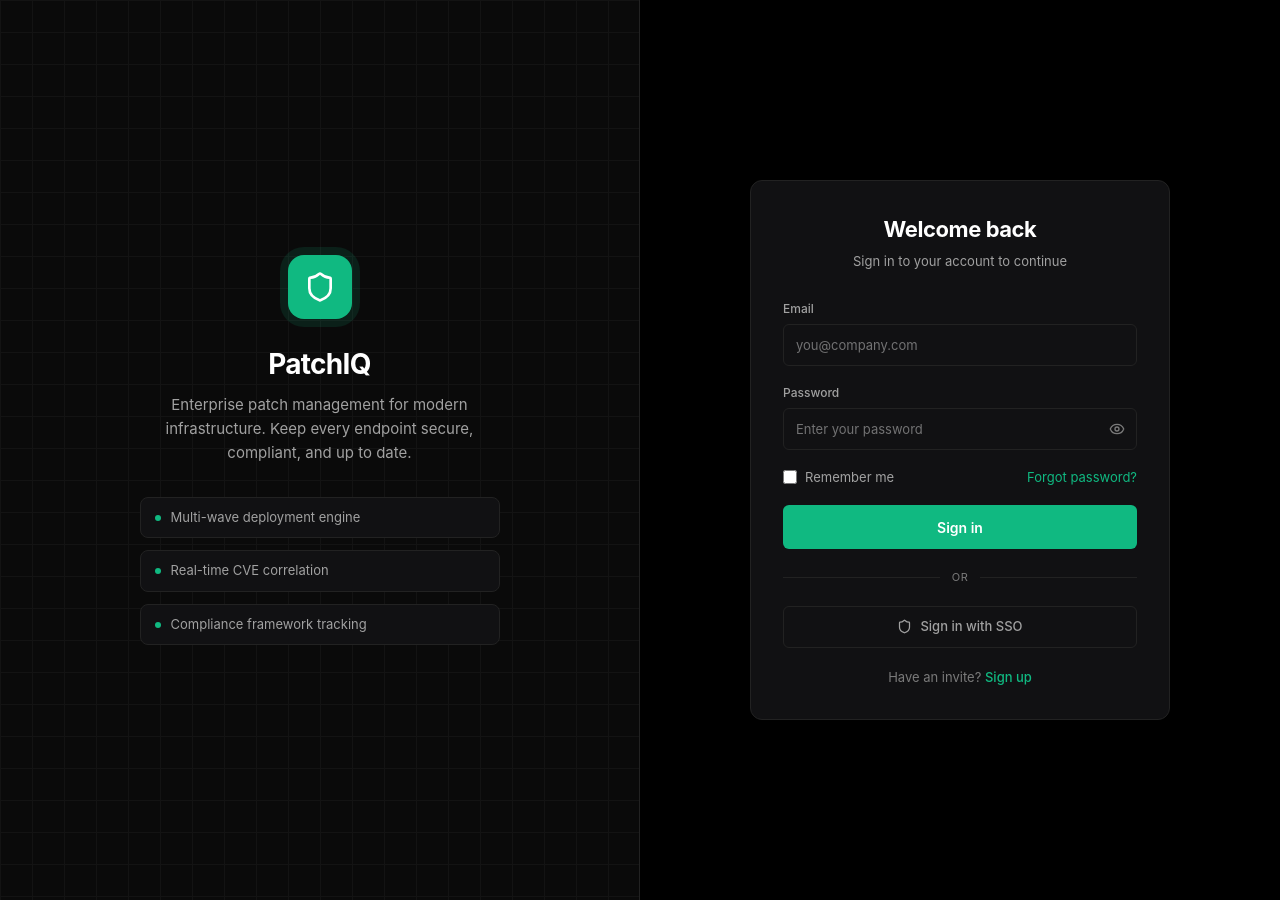
LoginPage › shows validation error for empty email on submit
The image size is (1280, 900).
# Fill password only, leave email empty
Type "somepassword" into the password field labelled "Password". click: (960, 428)
box: left=783, top=408, right=1137, bottom=450
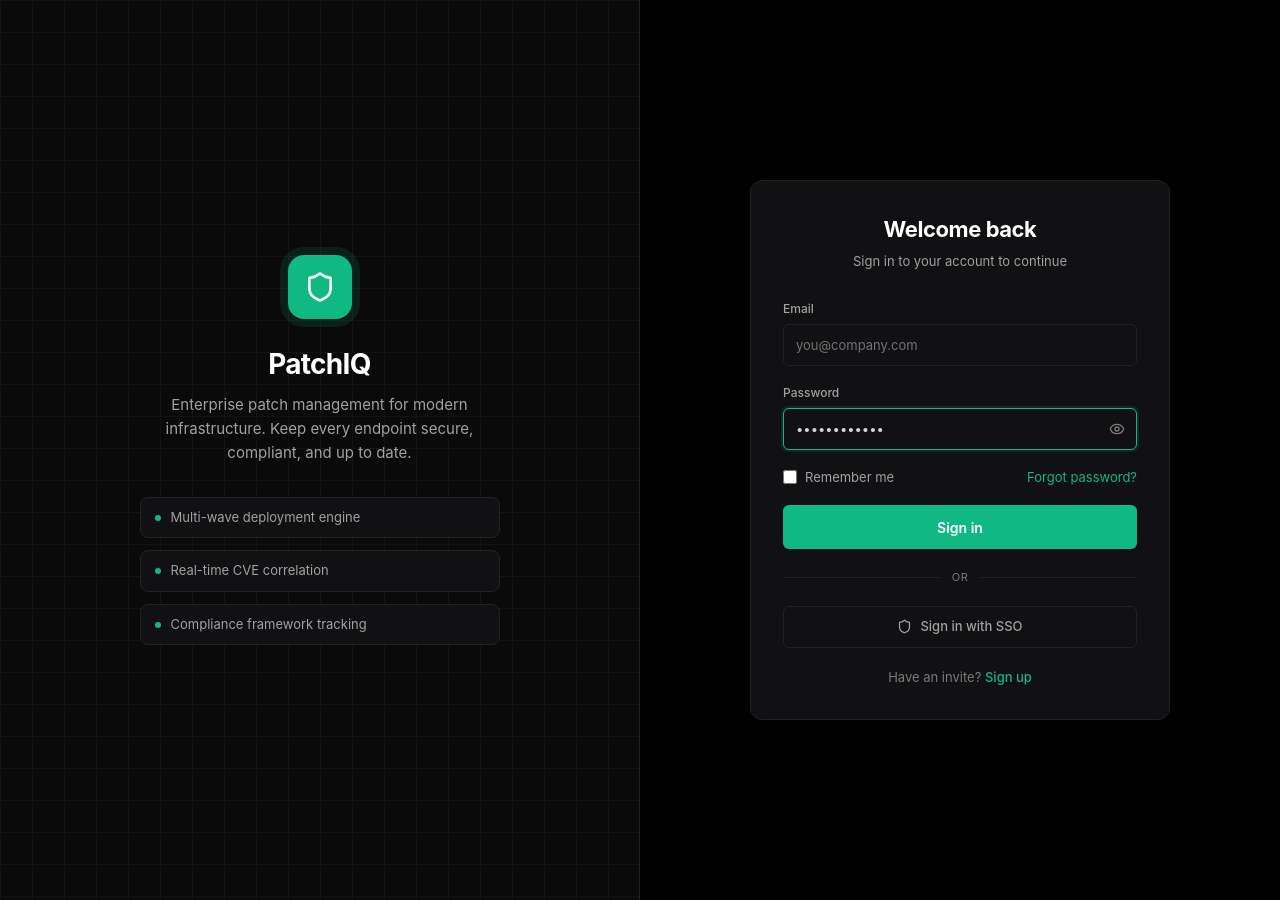
Click the button "Sign in". click: (960, 527)
box: left=783, top=505, right=1137, bottom=549
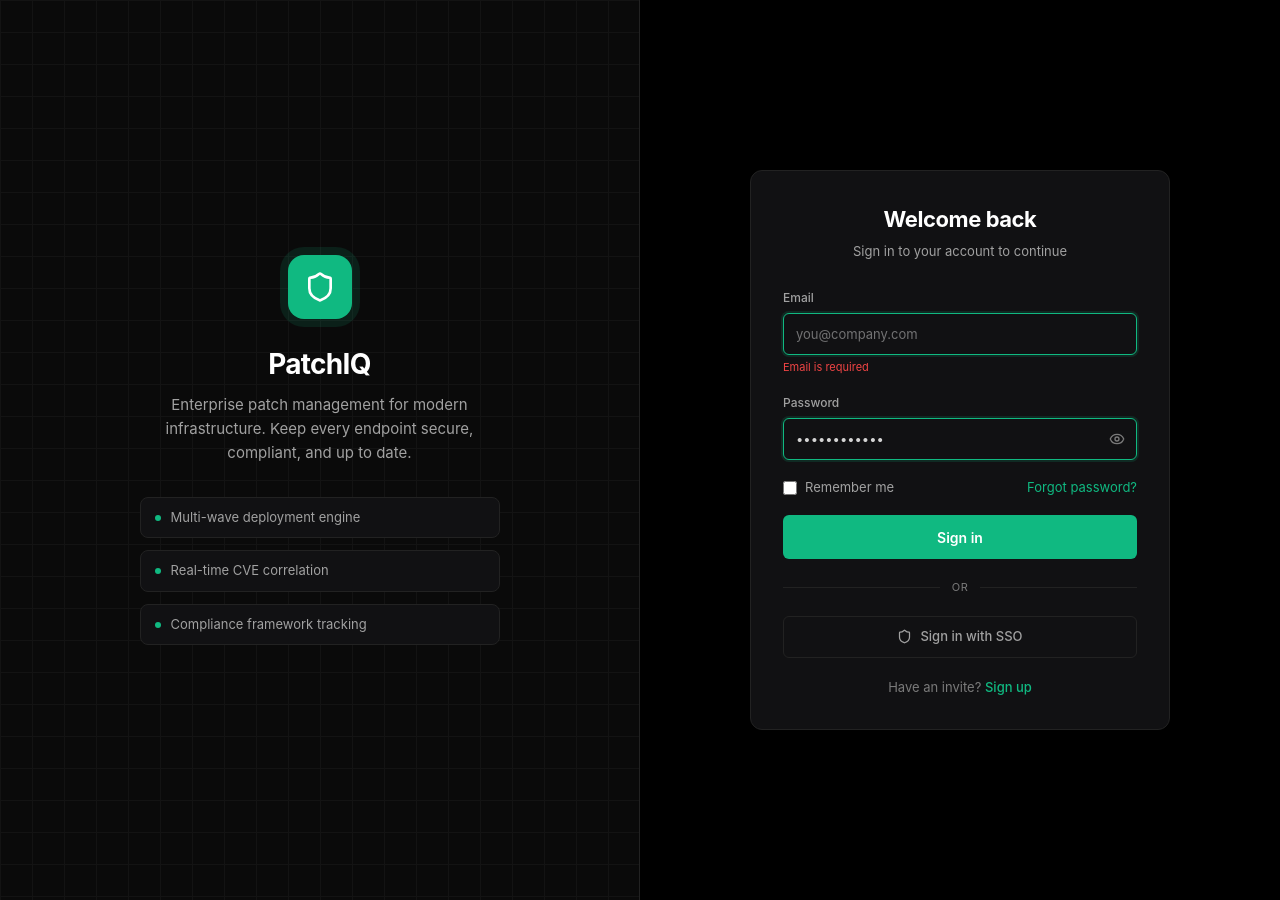
Check: the text "Email is required" is shown, box left=783, top=360, right=869, bottom=374
